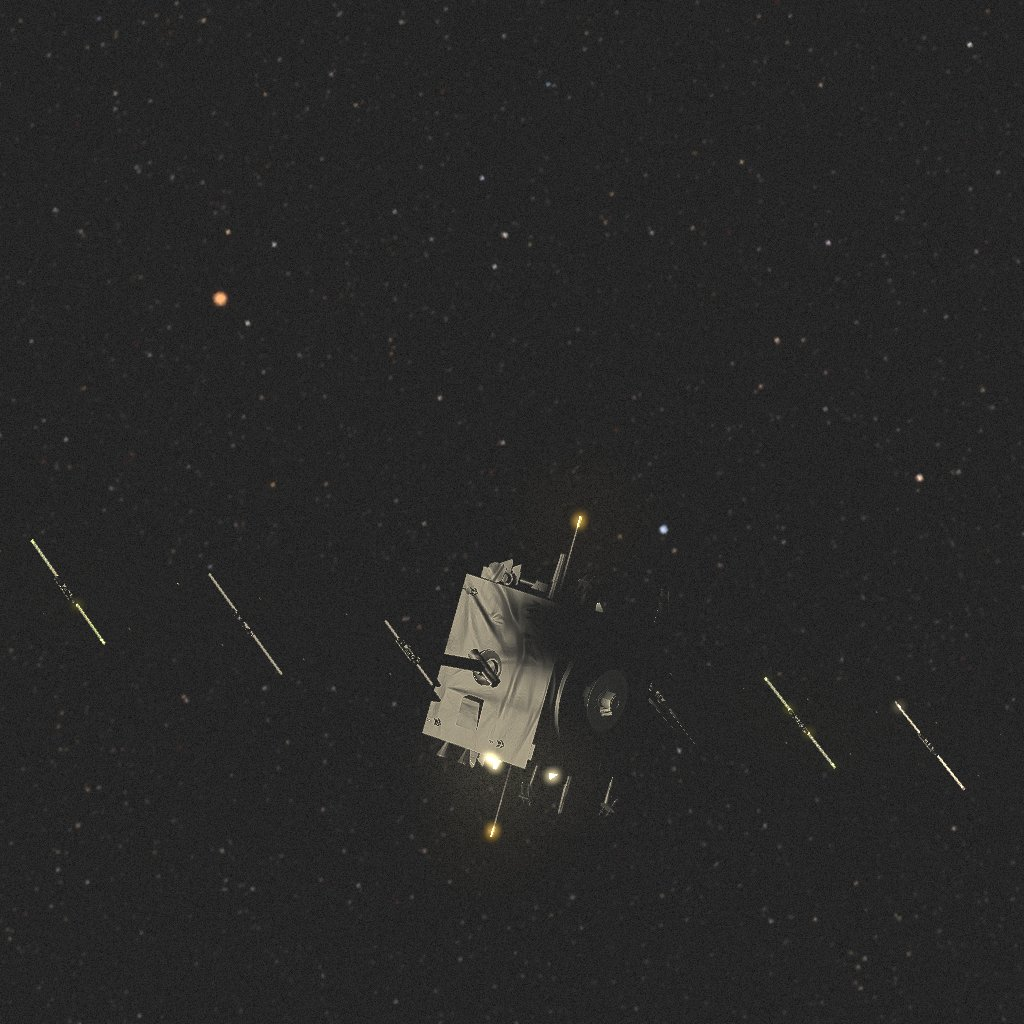smart_1: (0, 516, 1024, 837)
